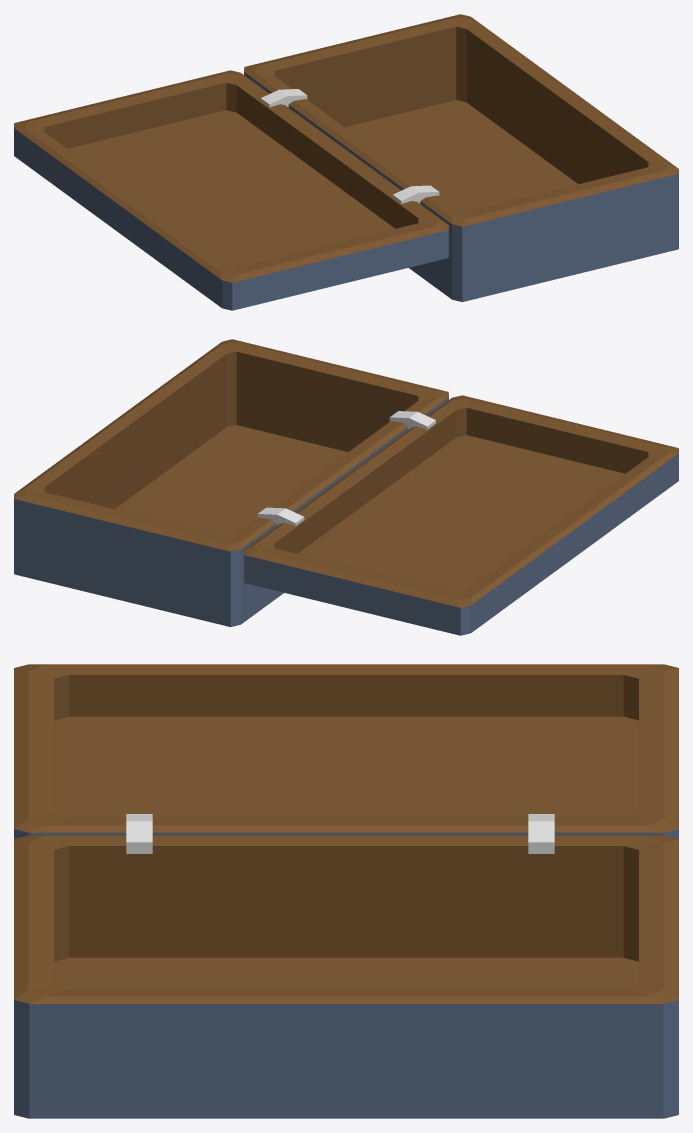
Rendered from Чемодан(н_н).fbx.
3 renders of one model, top to bottom at view 1: azimuth 30°, elevation 25°; view 2: azimuth 150°, elevation 25°; view 3: azimuth 270°, elevation 25°, orthographic. The views are drawn at different scales.
Parts seen in each view (by area): view 1: Cube.001, Куб.001, Куб; view 2: Cube.001, Куб.001, Куб; view 3: Cube.001, Куб, Куб.001.
Boxes of the visible parts, x1,y1,x2,y2 form: Cube.001: (14, 14, 678, 310); Куб.001: (392, 185, 439, 203); Куб: (261, 89, 307, 107); Cube.001: (14, 339, 678, 635); Куб.001: (389, 411, 435, 429); Куб: (257, 507, 304, 525); Cube.001: (14, 664, 678, 1118); Куб: (528, 814, 554, 853); Куб.001: (126, 814, 152, 853).
Bounding box in the file's own units: 242 × 42.5 × 200.
